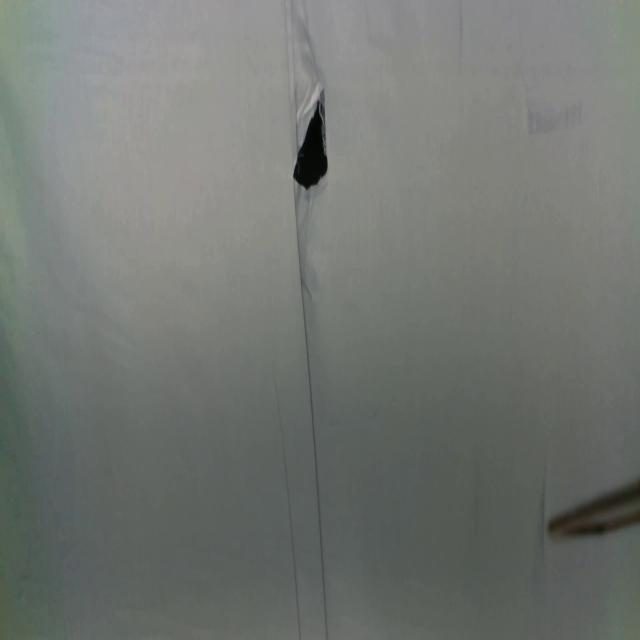crease: (295, 199, 330, 637), (270, 364, 302, 640)
hole: (293, 86, 329, 192)
